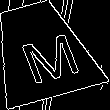M_N: (6, 20, 76, 82)
